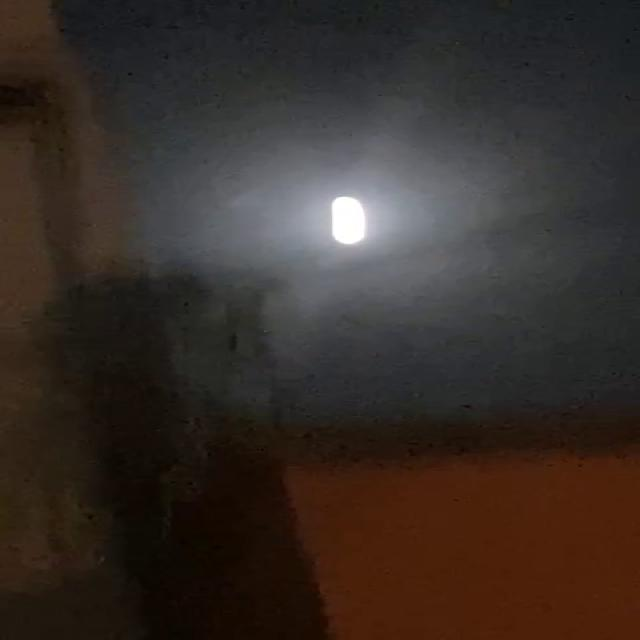moon: (322, 228, 386, 266)
